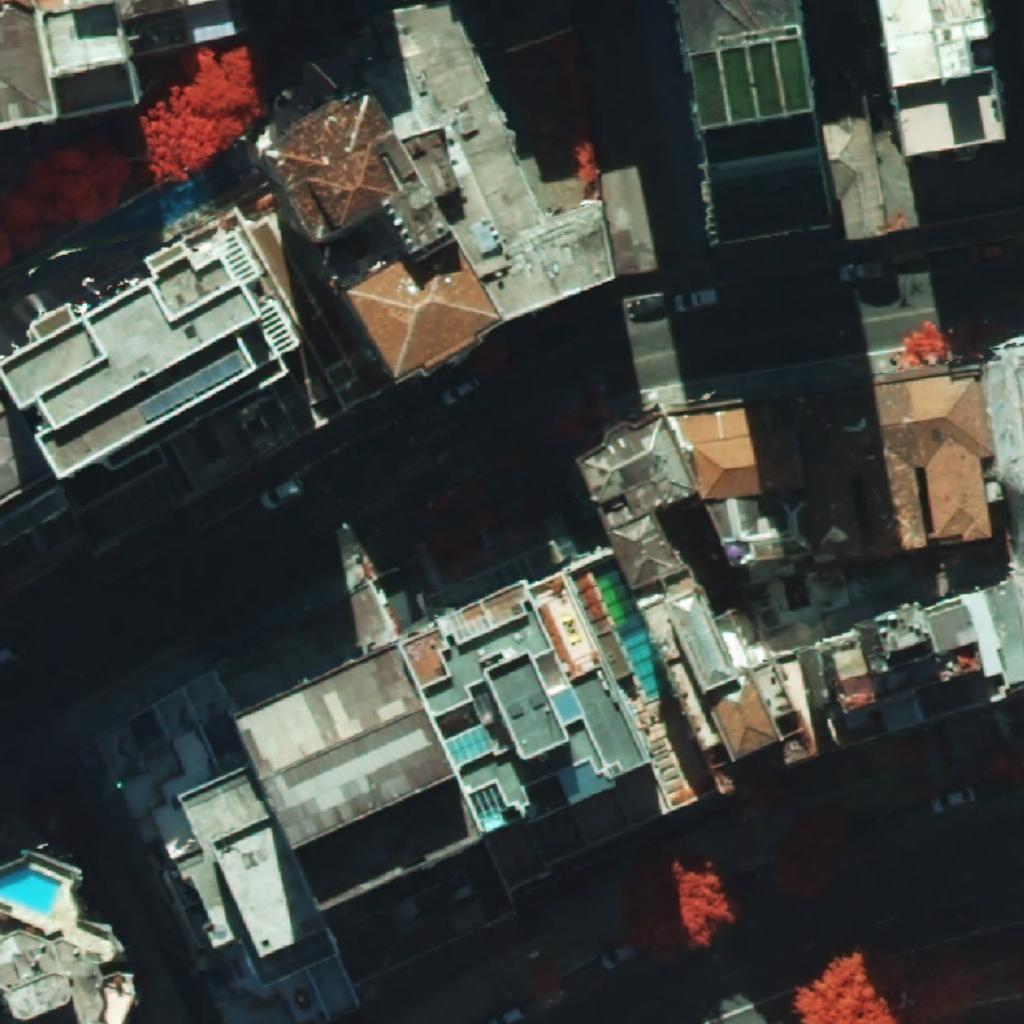pool: (617, 619, 661, 698)
